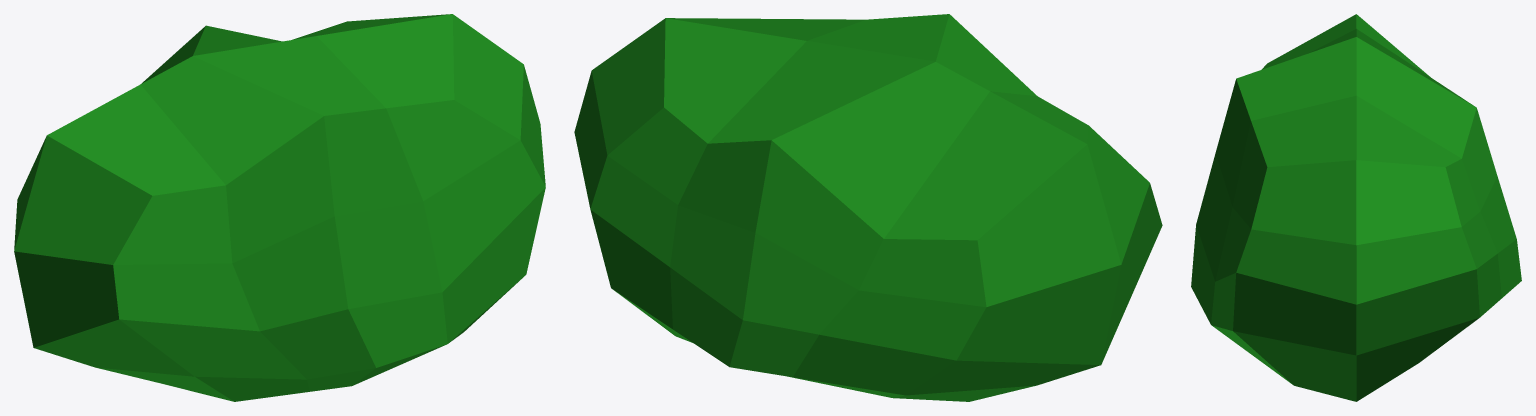
The model's file is BUSH01.fbx.
3 renders of one model, left to right at view 1: azimuth 30°, elevation 25°; view 2: azimuth 150°, elevation 25°; view 3: azimuth 270°, elevation 25°, orthographic. The views are drawn at different scales.
Parts seen in each view (by area): view 1: ruler_flower2; view 2: ruler_flower2; view 3: ruler_flower2.
Boxes of the visible parts, box(x1,y1,x2,y2) form: ruler_flower2: box(14, 14, 545, 401); ruler_flower2: box(574, 14, 1162, 401); ruler_flower2: box(1191, 14, 1521, 401).
Size of the model in its own units: 450 by 261 by 294.
